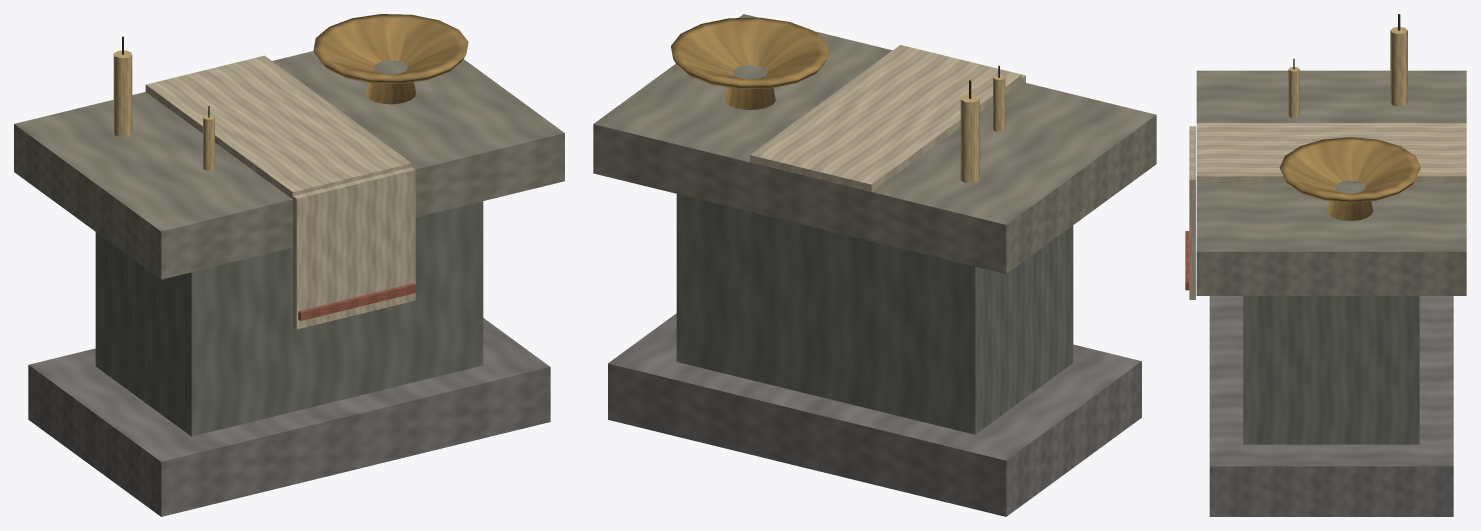
File: altar.glb
The picture shows the model from 3 angles, left to right: view 1: azimuth 30°, elevation 25°; view 2: azimuth 150°, elevation 25°; view 3: azimuth 270°, elevation 25°; orthographic projection. The views are drawn at different scales.
Parts seen in each view (by area): view 1: altar; view 2: altar; view 3: altar.
Part boxes in pixels (x1,y1,x2,y2): altar: (14, 14, 564, 516); altar: (593, 14, 1156, 516); altar: (1185, 14, 1466, 516).
Size of the model in its own units: 1.14 by 1.05 by 0.75.
1 material, 1 textured.
